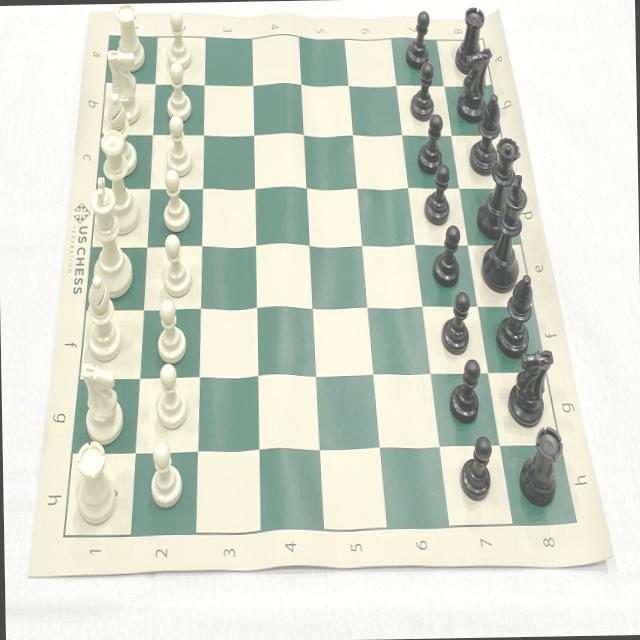black-bishop: (495, 275, 534, 357), (468, 94, 502, 176)
black-king: (480, 174, 532, 292)
black-pawn: (458, 430, 493, 505), (422, 158, 452, 226), (450, 356, 480, 424), (441, 285, 470, 353), (432, 220, 460, 286), (414, 111, 444, 172), (407, 61, 436, 120), (403, 10, 431, 70)
black-queen: (482, 136, 522, 228)
black-rook: (515, 424, 564, 508), (506, 344, 554, 428), (456, 46, 492, 120), (454, 5, 486, 74)
white-bishop: (82, 270, 122, 360), (102, 92, 138, 176)
white-king: (88, 175, 134, 298)
white-knight: (79, 358, 124, 444), (106, 48, 142, 124)
white-pawn: (149, 362, 189, 430), (143, 442, 183, 509), (155, 232, 193, 300), (148, 299, 187, 362), (154, 168, 192, 232), (162, 114, 192, 177), (160, 61, 192, 120), (160, 10, 191, 68)
white-queen: (96, 129, 140, 235)
white-rook: (72, 436, 118, 526), (112, 3, 146, 72)
